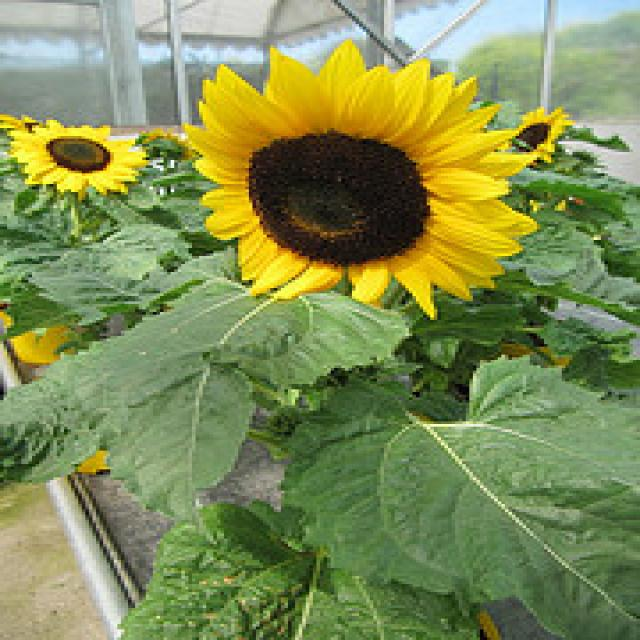sunflower: (182, 54, 518, 309), (8, 118, 148, 193)
